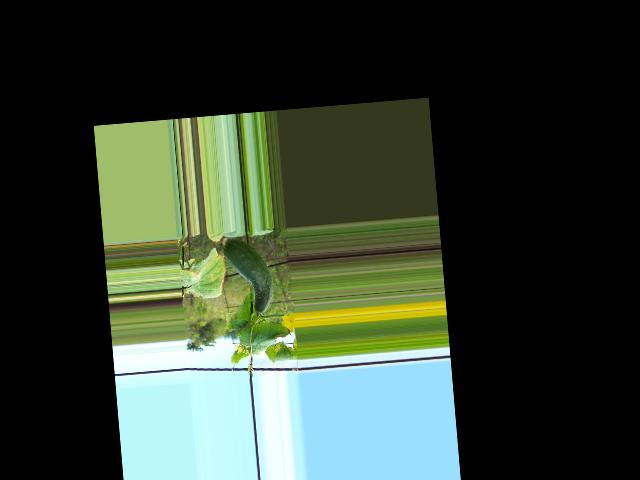cucumber: (222, 236, 274, 316)
